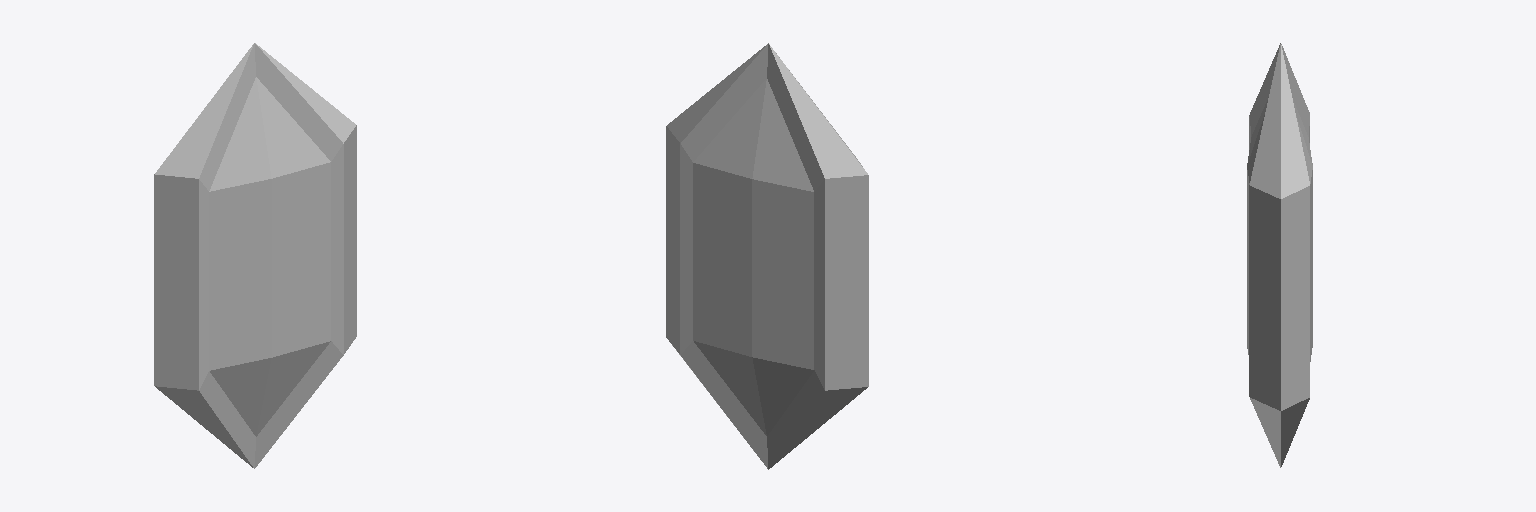
File: gema.obj
3 renders of one model, left to right at view 1: azimuth 30°, elevation 25°; view 2: azimuth 150°, elevation 25°; view 3: azimuth 270°, elevation 25°, orthographic.
Visible parts, largest first — view 1: pCube1; view 2: pCube1; view 3: pCube1.
Part boxes in pixels (bbox=[...]): pCube1: bbox=[154, 43, 356, 468]; pCube1: bbox=[666, 43, 868, 469]; pCube1: bbox=[1247, 43, 1312, 467].
Size of the model in its own units: 1 by 2.02 by 0.2825.